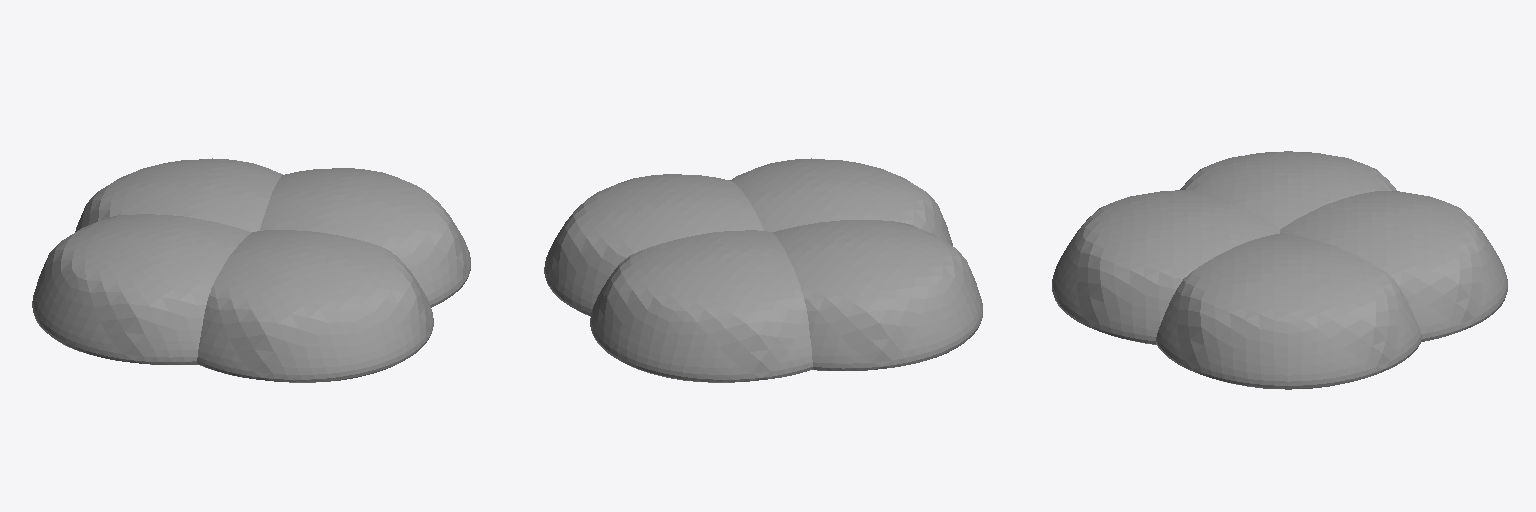
The model's file is arroz.obj.
3 renders of one model, left to right at view 1: azimuth 30°, elevation 25°; view 2: azimuth 150°, elevation 25°; view 3: azimuth 270°, elevation 25°, orthographic.
Visible parts, largest first — view 1: Sphere_1.001, Sphere_1.002, Sphere_1, Sphere_1.003; view 2: Sphere_1.003, Sphere_1.002, Sphere_1, Sphere_1.001; view 3: Sphere_1, Sphere_1.001, Sphere_1.003, Sphere_1.002.
Boxes of the visible parts, x1,y1,x2,y2 form: Sphere_1.001: [197, 230, 433, 382]; Sphere_1.002: [32, 214, 251, 364]; Sphere_1: [260, 168, 470, 307]; Sphere_1.003: [75, 158, 282, 231]; Sphere_1.003: [590, 230, 812, 382]; Sphere_1.002: [773, 220, 982, 370]; Sphere_1: [544, 174, 763, 316]; Sphere_1.001: [730, 158, 952, 245]; Sphere_1: [1156, 234, 1421, 389]; Sphere_1.001: [1052, 190, 1279, 344]; Sphere_1.003: [1280, 191, 1507, 341]; Sphere_1.002: [1180, 151, 1396, 228].
Bounding box in the file's own units: 1.75 × 0.3064 × 1.72.